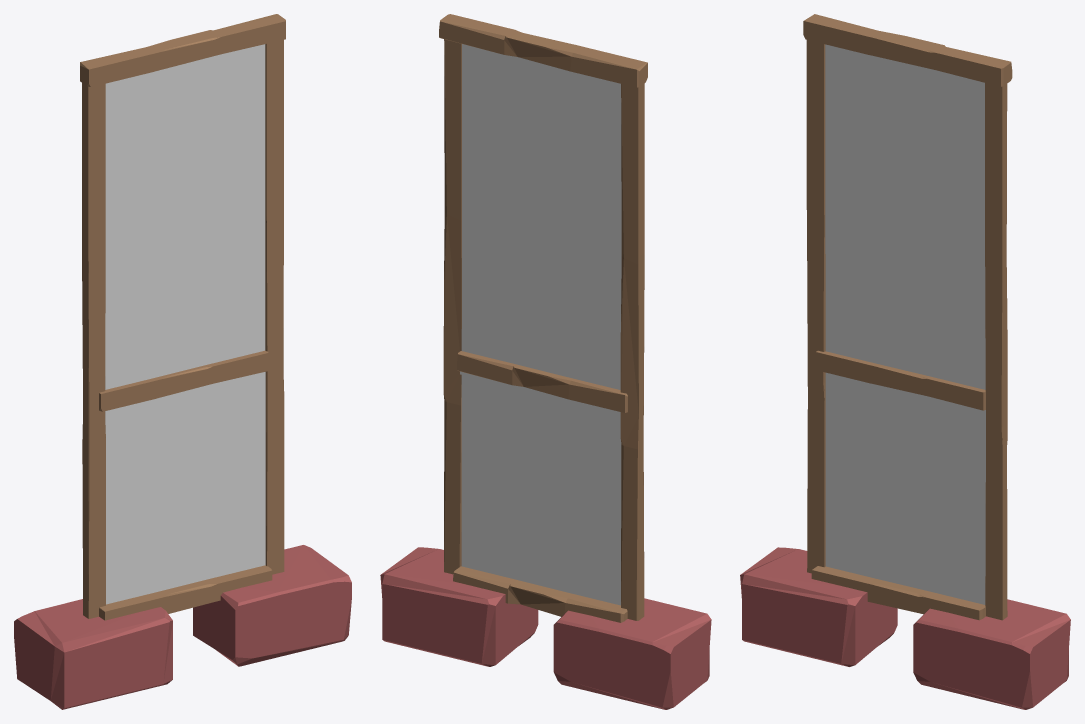
File: PK_Veranda_Panel_Narrow.fbx
3 views of the same model, side by side, from view 1: azimuth 30°, elevation 25°; view 2: azimuth 150°, elevation 25°; view 3: azimuth 330°, elevation 25° (orthographic).
Visible parts, largest first — view 1: PK_Veranda_Panel_Narrow; view 2: PK_Veranda_Panel_Narrow; view 3: PK_Veranda_Panel_Narrow.
Part boxes in pixels (x1=…): PK_Veranda_Panel_Narrow: x1=14, y1=14, x2=351, y2=709; PK_Veranda_Panel_Narrow: x1=380, y1=14, x2=711, y2=709; PK_Veranda_Panel_Narrow: x1=740, y1=14, x2=1070, y2=709.
Bounding box in the file's own units: 109 × 221 × 28.81.
